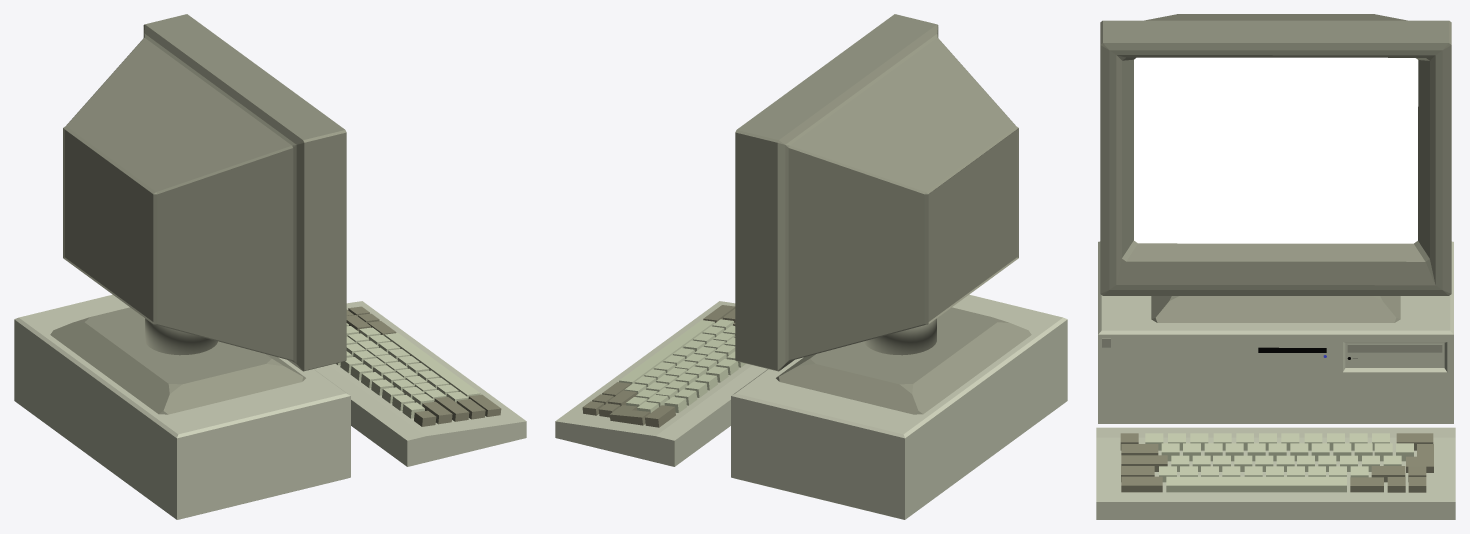
File: crtmonitor_computer_keyboard_mouse.gltf
3 views of the same model, side by side, from view 1: azimuth 30°, elevation 25°; view 2: azimuth 150°, elevation 25°; view 3: azimuth 270°, elevation 25° (orthographic). The views are drawn at different scales.
Visible parts, largest first — view 1: CRT Monitor, COMPUTER FRAME, CRT Base, Keyboard, CRT Leg, spacebar; view 2: CRT Monitor, COMPUTER FRAME, CRT Base, Keyboard, CRT Leg, spacebar; view 3: CRT Monitor Screen, CRT Monitor, COMPUTER FRAME, Keyboard, CRT Base, spacebar, alt, enter, control, capslock, tab, backspace (+1 smaller).
Boxes of the visible parts, x1,y1,x2,y2 form: CRT Monitor: (63, 14, 346, 371); COMPUTER FRAME: (14, 294, 350, 519); CRT Base: (50, 307, 305, 414); Keyboard: (314, 301, 526, 466); CRT Leg: (145, 318, 217, 355); spacebar: (384, 333, 480, 398); CRT Monitor: (735, 14, 1018, 371); COMPUTER FRAME: (731, 294, 1067, 519); CRT Base: (776, 307, 1031, 414); Keyboard: (555, 301, 767, 466); CRT Leg: (864, 318, 936, 355); spacebar: (619, 320, 714, 384); CRT Monitor Screen: (1134, 57, 1418, 243); CRT Monitor: (1100, 14, 1451, 295); COMPUTER FRAME: (1098, 241, 1453, 423); Keyboard: (1096, 427, 1455, 519); CRT Base: (1151, 296, 1400, 322); spacebar: (1166, 476, 1346, 492); alt: (1121, 476, 1162, 492); enter: (1406, 444, 1433, 472); control: (1121, 455, 1167, 471); capslock: (1350, 477, 1383, 492); tab: (1121, 444, 1158, 455); backspace: (1396, 433, 1433, 450).
Size of the model in its own units: 2.61 by 2.49 by 2.13.
